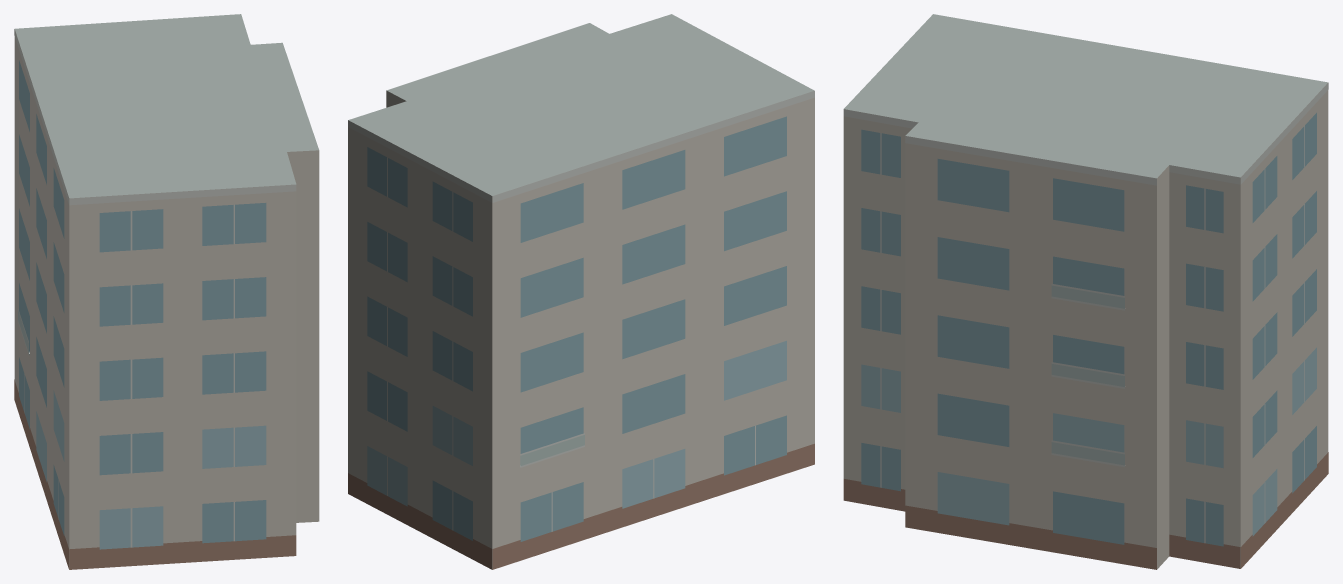
The model's file is survey-upis-32751672.glb.
The picture shows the model from 3 angles, left to right: view 1: azimuth 30°, elevation 25°; view 2: azimuth 150°, elevation 25°; view 3: azimuth 270°, elevation 25°; orthographic projection. The views are drawn at different scales.
Visible parts, largest first — view 1: survey-upis-32751672.tmp; view 2: survey-upis-32751672.tmp; view 3: survey-upis-32751672.tmp.
Boxes of the visible parts, box(x1,y1,x2,y2) form: survey-upis-32751672.tmp: box(14, 14, 319, 569); survey-upis-32751672.tmp: box(348, 14, 814, 569); survey-upis-32751672.tmp: box(843, 14, 1328, 569).
Bounding box in the file's own units: 11.9 × 13.2 × 14.83.
